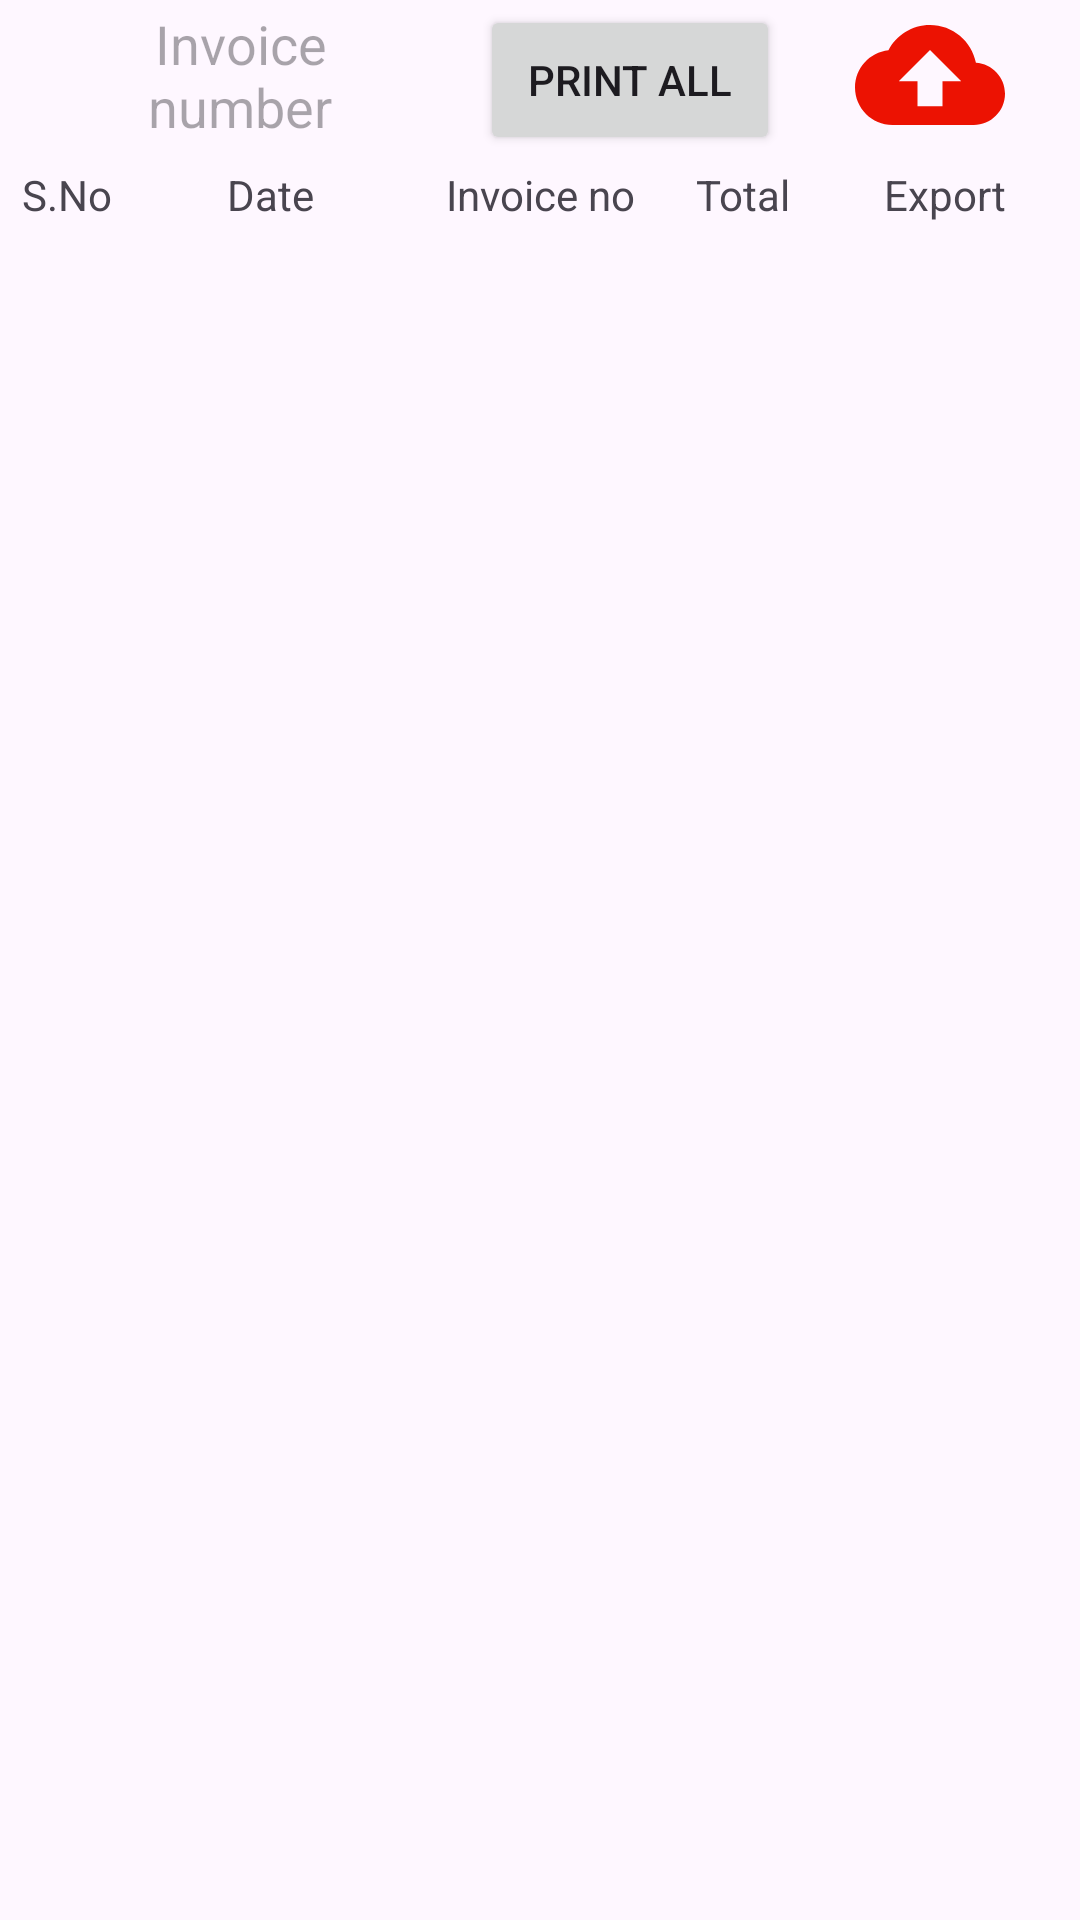

Locate icon controls on the screen. Image size 1080 × 1920, boxes as {"left": x1, "top": y1, "right": x2, "bottom": y2}.
upload: {"left": 855, "top": 25, "right": 1005, "bottom": 125}
